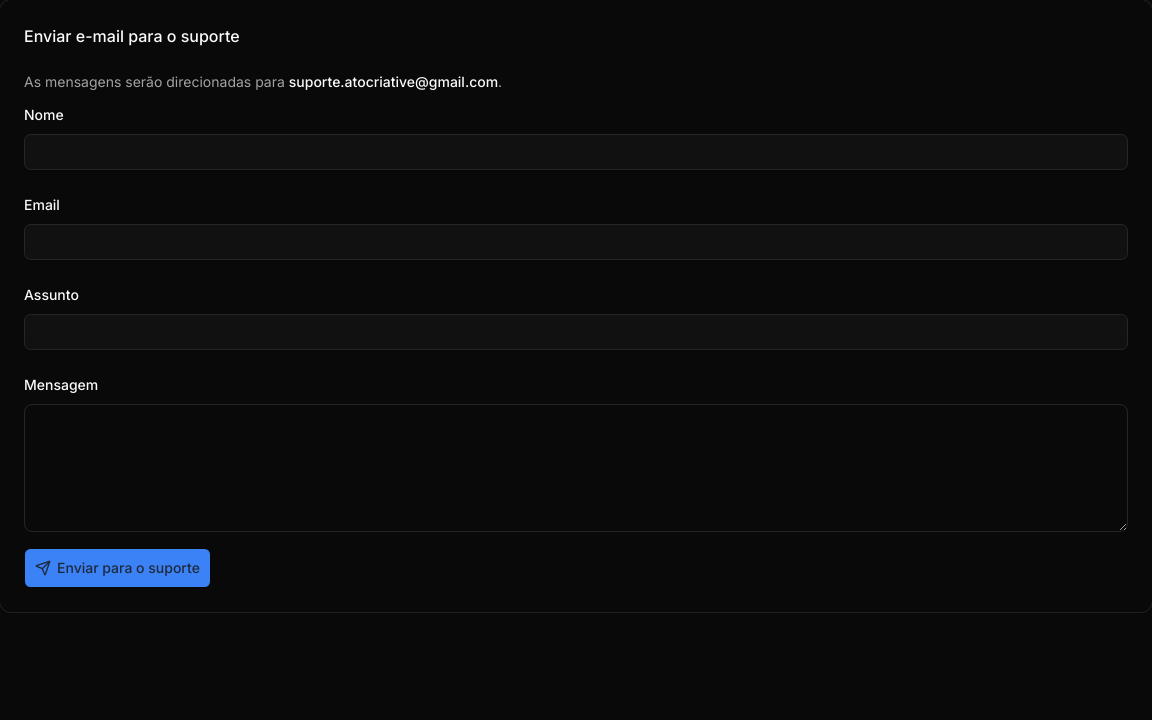
Test case: support email form › form validation › rejects message shorter than 10 characters
In the field labelled "Nome": (576, 152) [24,134,1128,170], type "John"
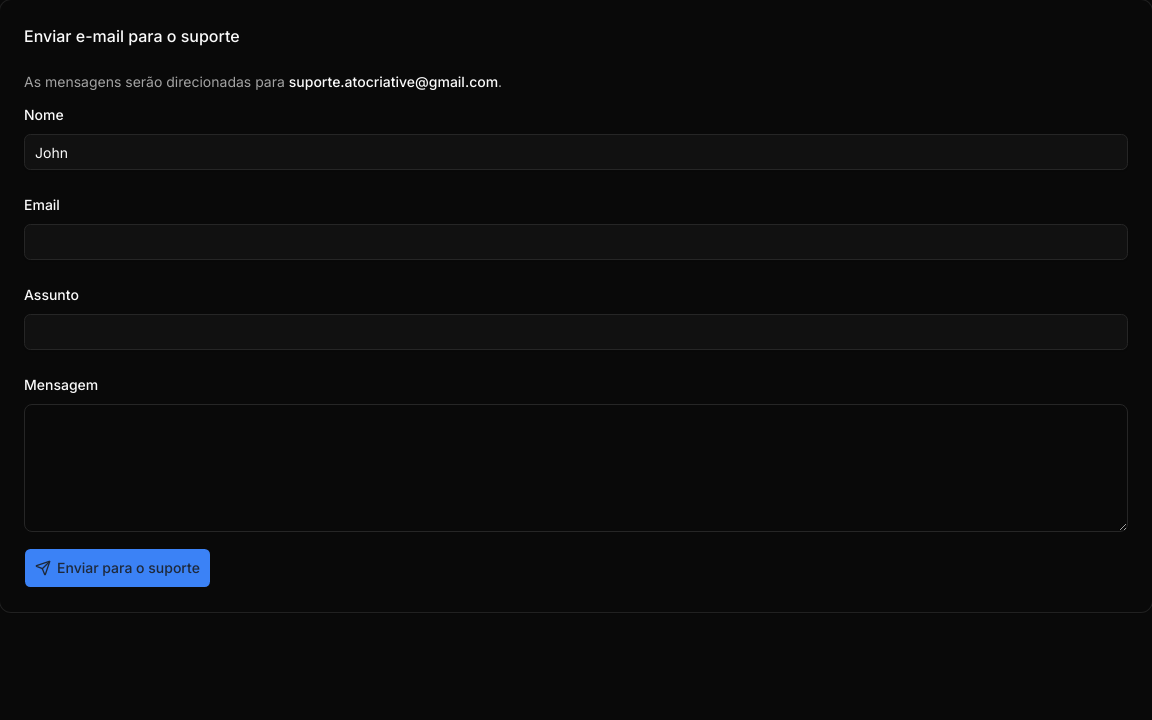
In the field labelled "Email": (576, 242) [24,224,1128,260], type "john@example.com"
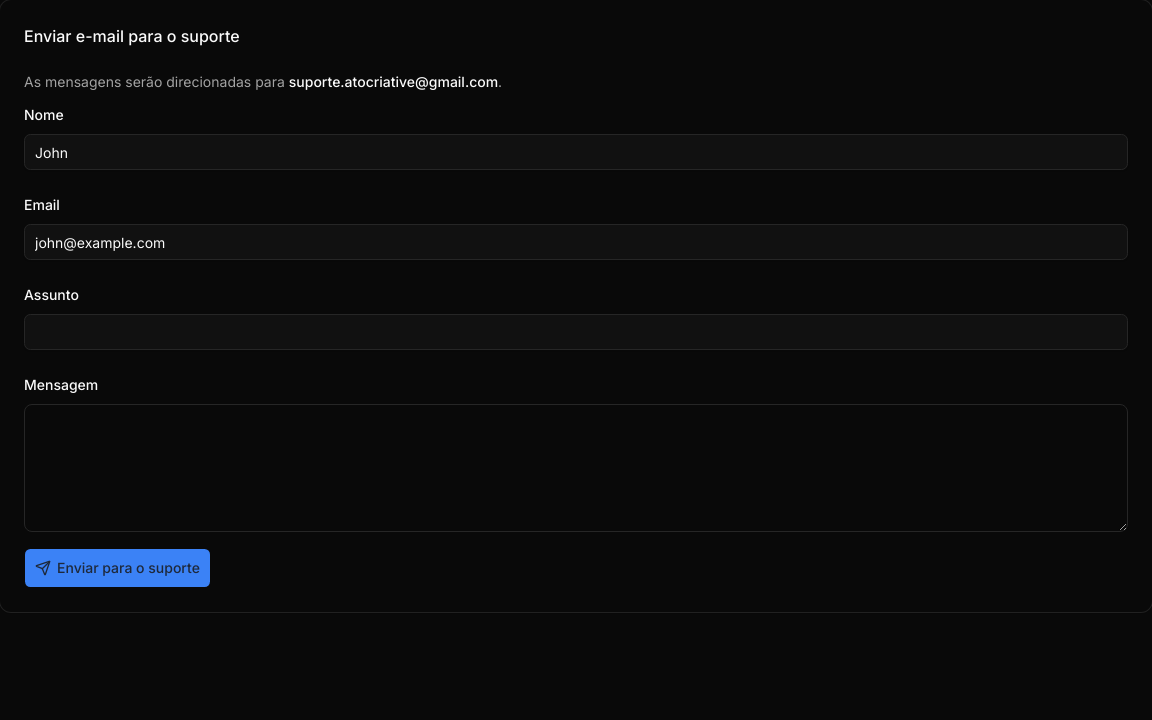
In the field labelled "Assunto": (576, 332) [24,314,1128,350], type "Subject"
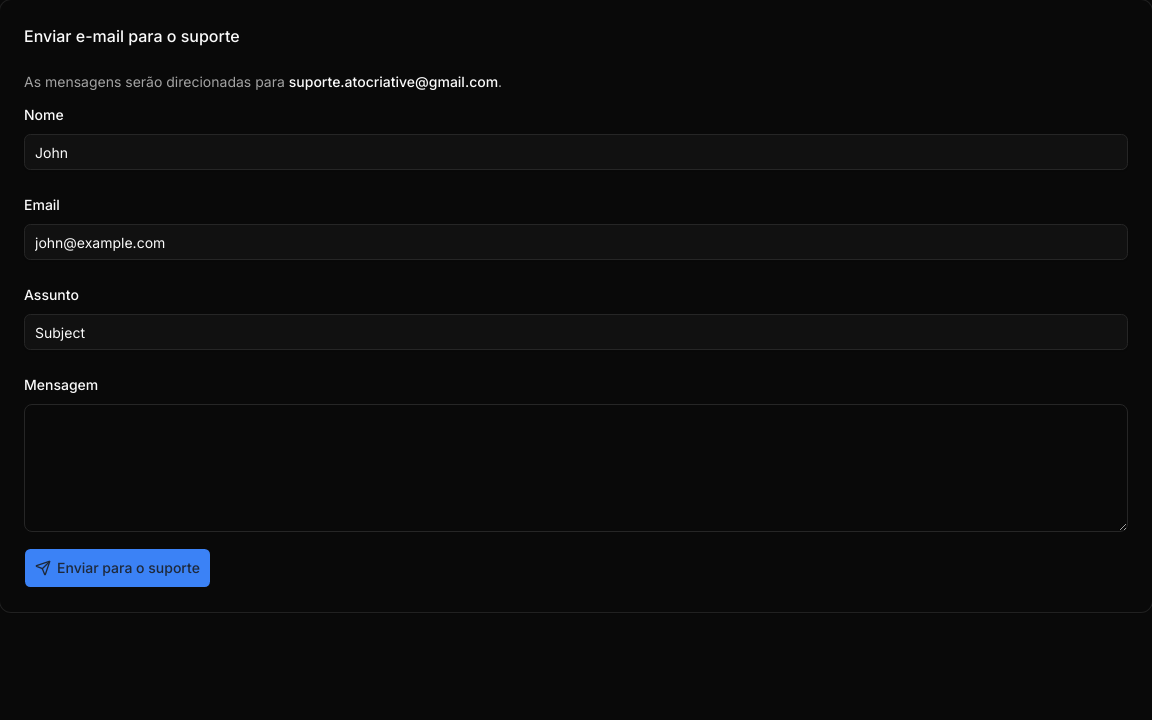
In the text box labelled "Mensagem": (576, 468) [24,404,1128,532], type "Short"
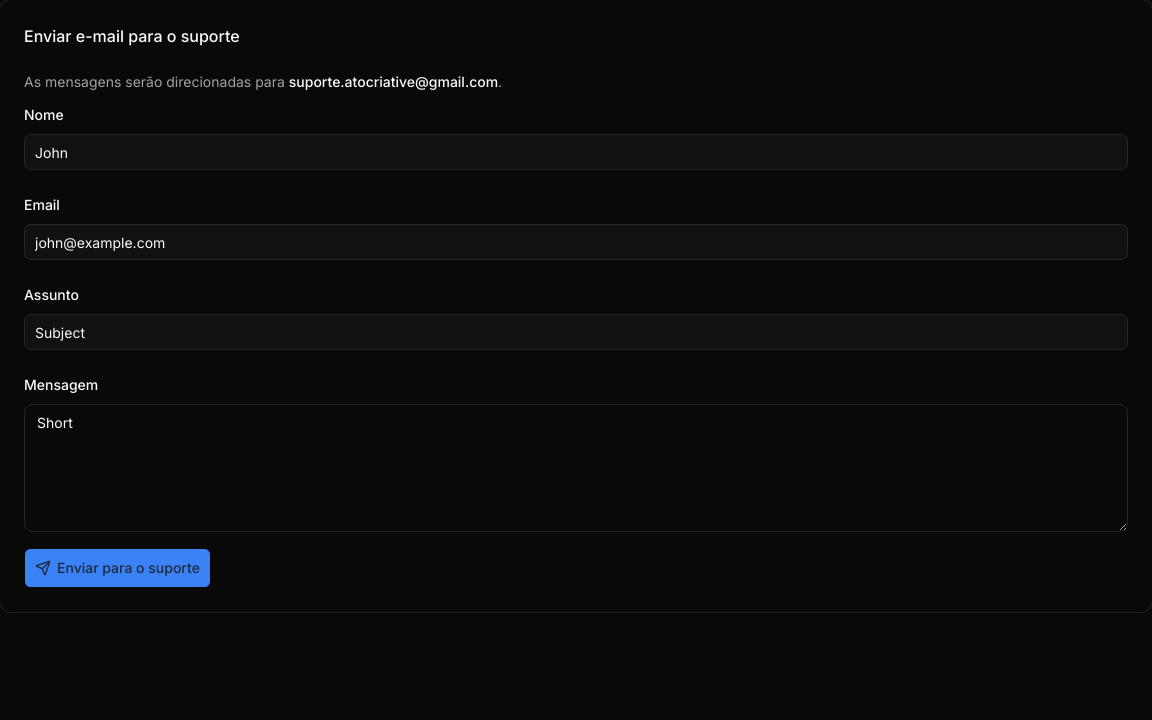
Click the button "Enviar para o suporte": (117, 568) [24,548,211,588]
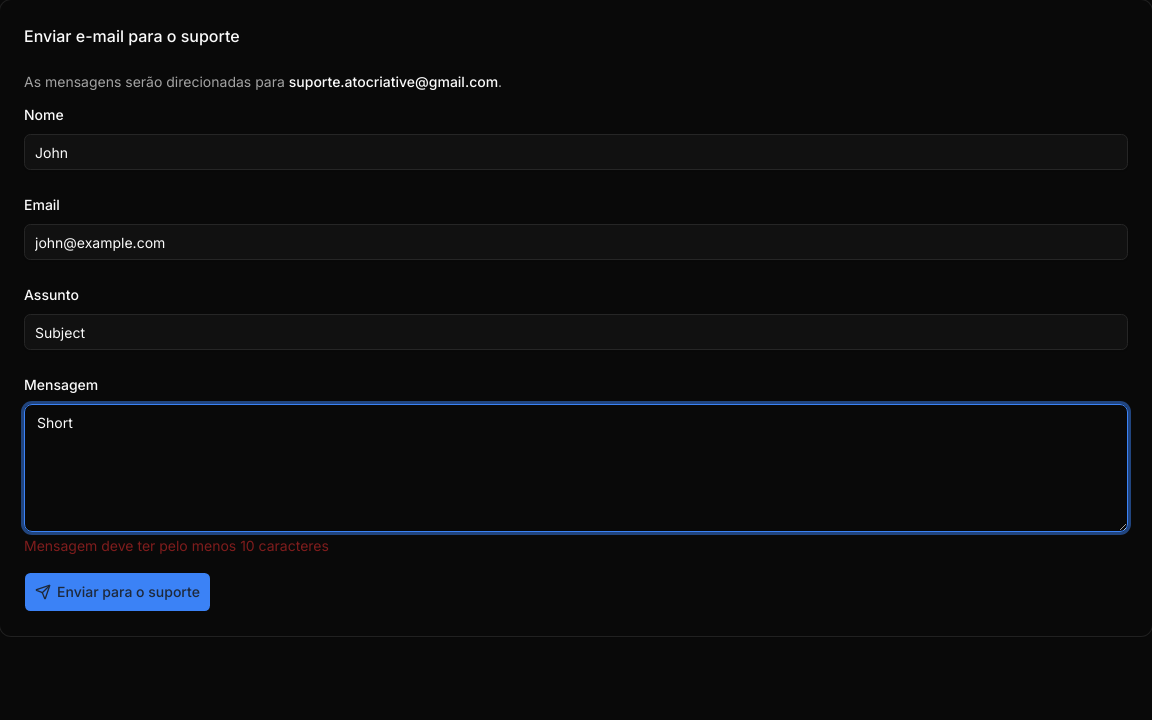
Expected: the text "Mensagem deve ter pelo menos 10 caracteres" is shown, [24,537,329,554]
